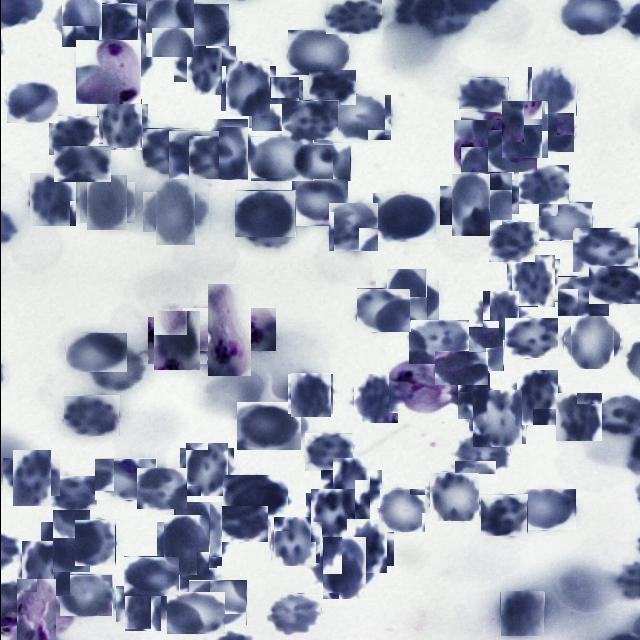red blood cell: (168, 506, 224, 562), (372, 193, 435, 242), (236, 402, 300, 450), (469, 392, 524, 446), (142, 1, 196, 55), (234, 190, 295, 237), (222, 475, 287, 519), (572, 228, 637, 272), (250, 136, 313, 181), (150, 314, 203, 367), (148, 186, 202, 238), (318, 541, 370, 595), (160, 518, 212, 572), (287, 30, 348, 75), (332, 94, 391, 140), (380, 274, 432, 326), (19, 542, 71, 594), (498, 103, 550, 155), (408, 320, 468, 364), (291, 179, 347, 226), (188, 580, 246, 625), (94, 458, 156, 500), (202, 124, 253, 175), (250, 78, 300, 130), (88, 345, 144, 391), (142, 128, 198, 174), (445, 180, 495, 231), (168, 4, 228, 46), (566, 316, 616, 366), (27, 174, 77, 224), (222, 64, 272, 114), (46, 516, 96, 566), (168, 130, 219, 179), (454, 430, 510, 474), (326, 464, 375, 514), (308, 490, 357, 540), (328, 202, 378, 251), (166, 592, 224, 634), (516, 489, 575, 530), (429, 472, 478, 521), (526, 67, 575, 116), (65, 333, 126, 372), (356, 288, 410, 332), (512, 373, 560, 422), (180, 40, 228, 89), (508, 256, 556, 304), (182, 446, 230, 494), (554, 393, 602, 441), (82, 178, 130, 226), (6, 454, 54, 502), (63, 395, 119, 436), (451, 327, 503, 371), (281, 100, 338, 140), (342, 522, 389, 570), (266, 593, 321, 634), (123, 556, 179, 596), (59, 574, 112, 616), (351, 375, 399, 421), (519, 112, 574, 152), (6, 81, 57, 123), (504, 318, 557, 358), (272, 518, 318, 564), (99, 101, 144, 148), (538, 202, 592, 241), (296, 142, 350, 181), (557, 276, 609, 316), (487, 130, 536, 172), (53, 146, 110, 182), (136, 468, 186, 509), (378, 488, 424, 532), (58, 0, 105, 43), (499, 592, 544, 636), (480, 494, 527, 536), (48, 116, 98, 155), (518, 165, 568, 204), (86, 3, 137, 41), (588, 266, 639, 304), (120, 582, 164, 626), (74, 519, 115, 566), (325, 0, 381, 34), (46, 476, 96, 514), (478, 294, 521, 337), (488, 222, 534, 262), (434, 351, 488, 385), (304, 433, 352, 471), (288, 374, 330, 416), (219, 506, 267, 542), (474, 176, 514, 218), (308, 70, 355, 105), (458, 77, 508, 109), (452, 376, 492, 416)
trophozoite: (195, 296, 262, 364), (75, 40, 140, 104), (456, 116, 516, 176), (388, 361, 450, 413), (8, 587, 64, 640)
